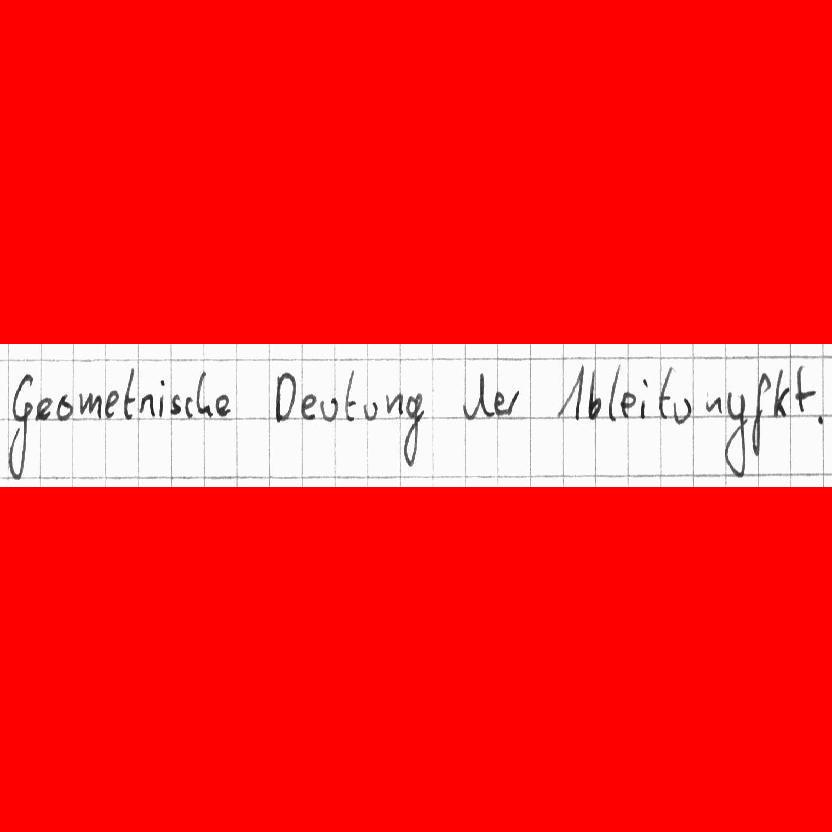Char: (5, 369, 35, 480), (722, 388, 748, 481), (401, 390, 426, 469), (750, 370, 771, 459), (554, 363, 585, 422), (461, 371, 495, 421), (273, 370, 298, 424), (793, 362, 818, 416), (193, 368, 214, 418), (772, 366, 790, 420), (122, 366, 139, 420), (587, 367, 603, 422), (342, 368, 357, 424), (608, 364, 622, 423), (657, 366, 671, 421), (78, 392, 103, 419), (319, 395, 340, 422), (671, 398, 692, 425), (618, 390, 637, 419), (383, 391, 404, 416), (301, 391, 318, 421), (56, 393, 74, 421), (103, 388, 118, 420), (156, 376, 167, 419), (35, 397, 53, 423), (214, 392, 233, 416), (639, 377, 649, 422), (705, 391, 723, 416), (140, 391, 156, 419), (505, 389, 519, 417), (492, 389, 505, 419), (362, 401, 379, 422), (169, 392, 181, 417), (184, 394, 194, 418), (814, 412, 826, 426)
